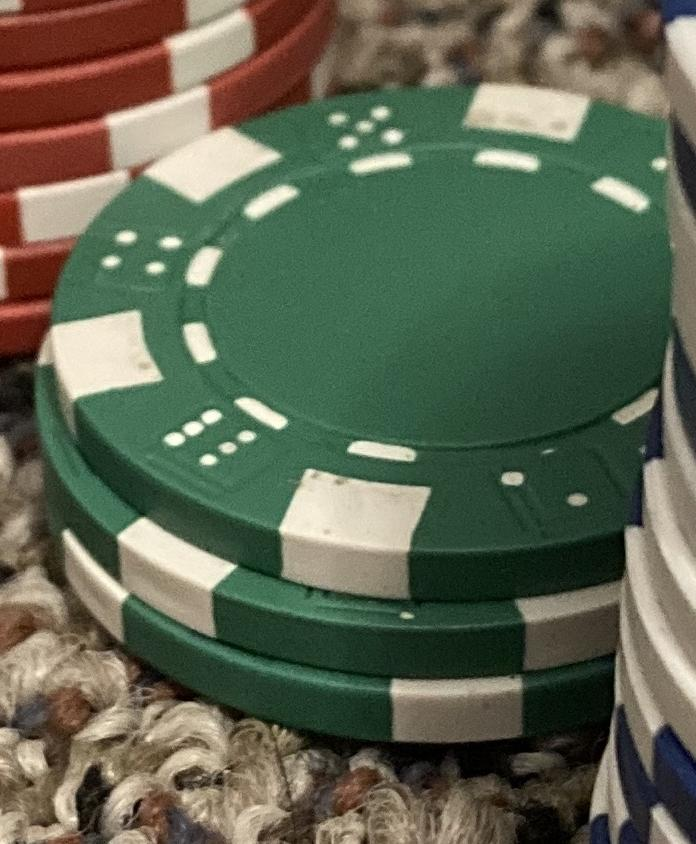Chip: (1, 1, 696, 844)
